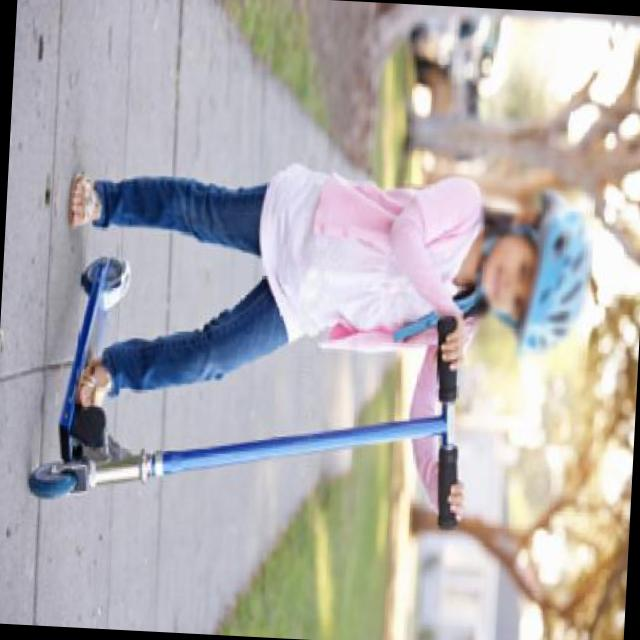With Helmet: (468, 178, 594, 366)
